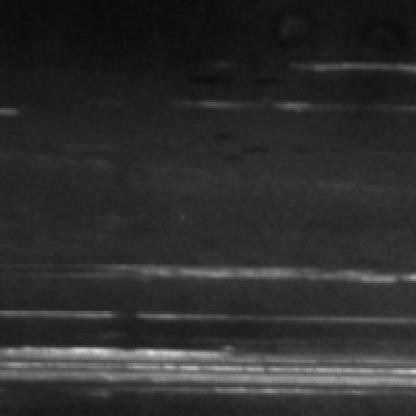scratches: (4, 342, 416, 404), (64, 262, 416, 293), (289, 52, 416, 90)
